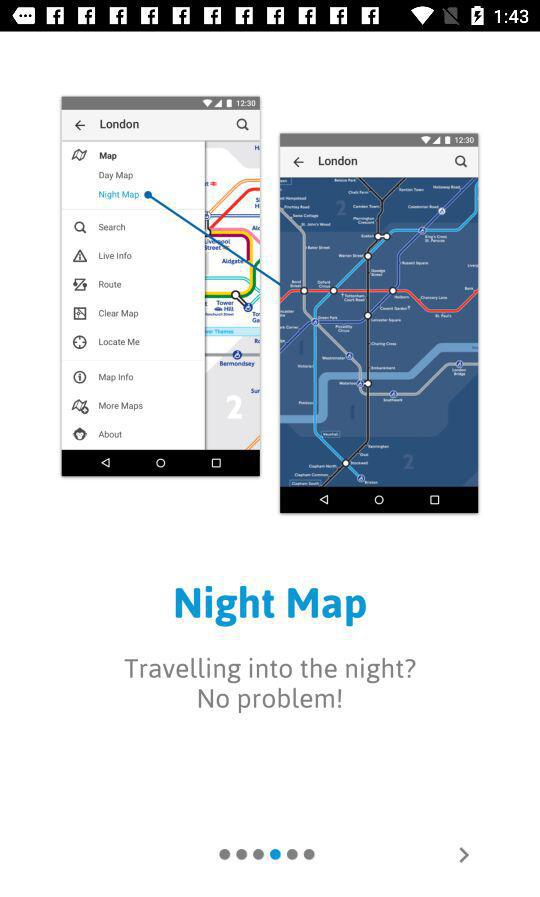Icon: (459, 847, 470, 864)
Image: (59, 95, 480, 515)
PageIndicator: (219, 848, 315, 861)
Text: (125, 657, 417, 715), (175, 585, 367, 628)
UpperTaskBar: (1, 1, 540, 33)
